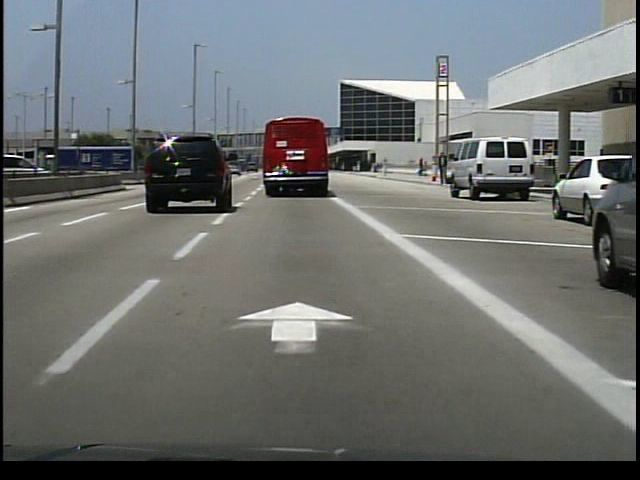person: (435, 152, 450, 191)
